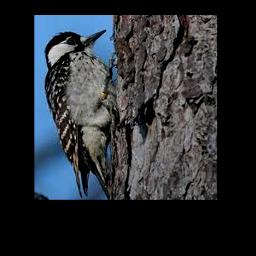Woodpecker: (44, 30, 136, 199)
